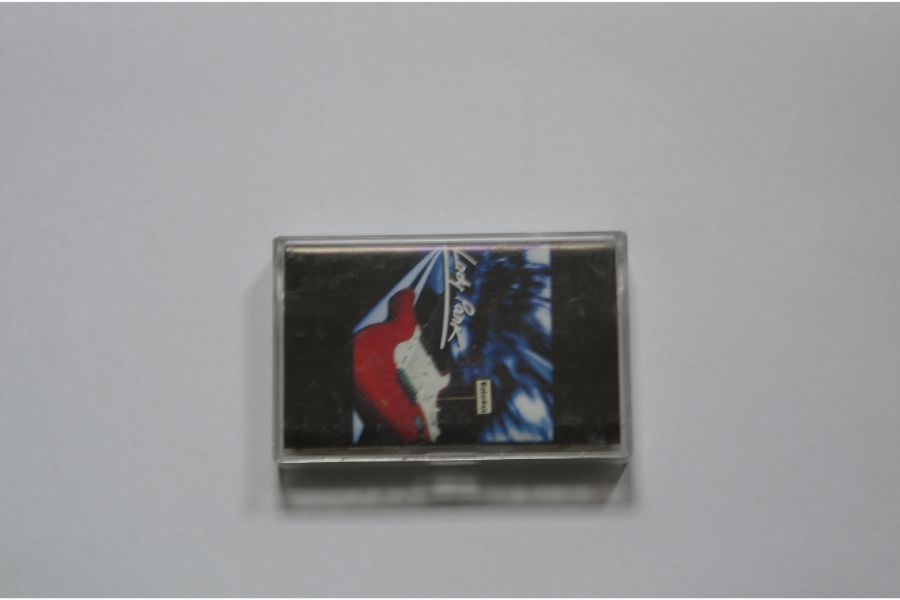album: (271, 230, 636, 467)
